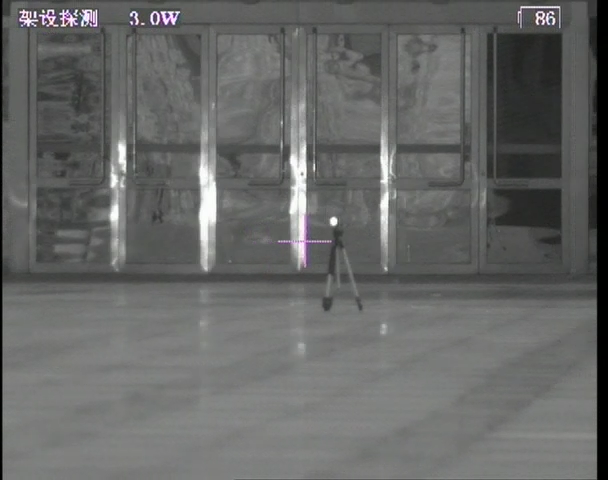my: (326, 214, 339, 227)
